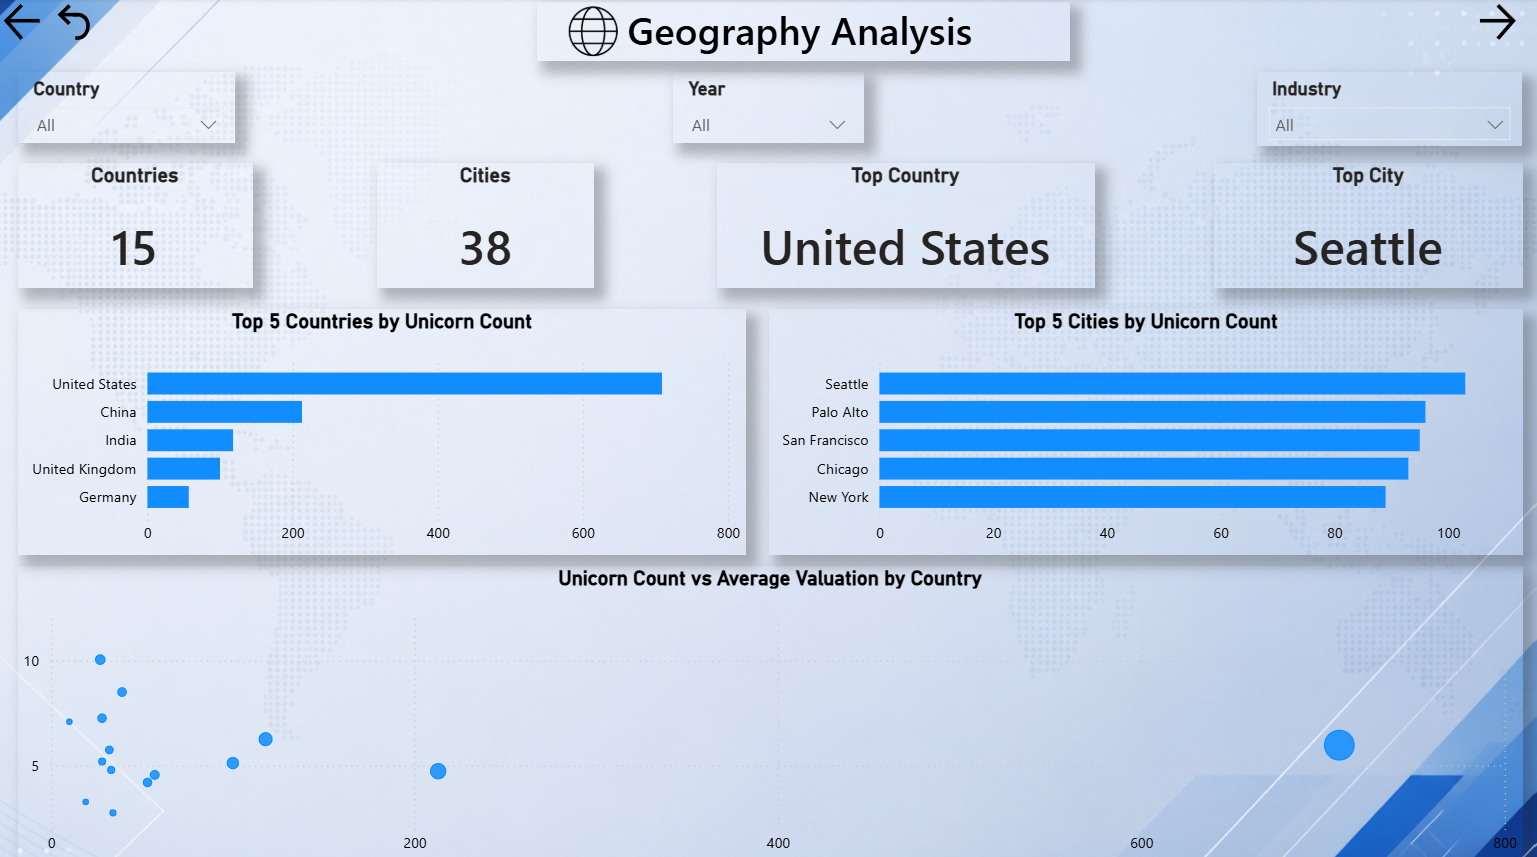

This screenshot's page, from the dashboard's own definition file:
{"tool":"powerbi","page":{"name":"Geography Analysis","canvas":[1280,720],"ordinal":1},"visuals":[{"type":"shape","box":[447.3,2.7,443.2,49.4],"z":0},{"type":"textbox","box":[517.3,0,362.3,54.9],"z":1000},{"type":"slicer","fields":{"Values":["unicorn_companies.Country"]},"box":[15.1,61.1,181.1,59],"z":2000},{"type":"slicer","fields":{"Values":["unicorn_companies.Industry"]},"box":[1045.6,61.1,220.9,61.7],"z":3000},{"type":"cardVisual","title":"Top City","fields":{"Data":["unicorn_companies.Top City"]},"box":[1010,137.6,256.6,104.3],"z":4000},{"type":"cardVisual","title":"Countries ","fields":{"Data":["unicorn_companies.Countries Covered"]},"box":[15.1,137.6,194.9,104.3],"z":5000},{"type":"cardVisual","title":"Cities ","fields":{"Data":["Count(unicorn_companies.City)"]},"box":[314.2,137.6,181.1,104.3],"z":6000},{"type":"cardVisual","title":"Top Country","fields":{"Data":["unicorn_companies.Top Country"]},"box":[596.9,137.6,314.2,104.3],"z":7000},{"type":"barChart","title":"Top 5 Countries by Unicorn Count","fields":{"Category":["unicorn_companies.Country"],"Y":["unicorn_companies.Total Unicorns"]},"box":[15.7,258.6,605.7,204.3],"z":8000},{"type":"barChart","title":"Top 5 Cities by Unicorn Count","fields":{"Y":["unicorn_companies.Total Unicorns"],"Category":["unicorn_companies.City"]},"box":[640,258.6,627.1,204.3],"z":9000},{"type":"scatterChart","title":"Unicorn Count vs Average Valuation by Country","fields":{"X":["unicorn_companies.Total Unicorns"],"Y":["unicorn_companies.Average Valuation"],"Size":["unicorn_companies.Total Funding Raised"],"Category":["unicorn_companies.Country"]},"box":[15.7,471.4,1251.4,248.6],"z":10000},{"type":"actionButton","box":[0,0,54.9,39.8],"z":11000},{"type":"slicer","fields":{"Values":["unicorn_companies.Date Joined.Variation.Date Hierarchy.Year"]},"box":[559.9,61.7,159.2,59],"z":12000},{"type":"image","box":[450.1,0,87.8,54.9],"z":13000},{"type":"actionButton","box":[42.5,0,52.1,39.8],"z":14000},{"type":"actionButton","box":[1225.4,0,54.9,39.8],"z":15000}]}

Visuals, with their boxes in screenshot pixels (x1, y1, x2, y2), scaled from the page's 1280x720 canvas onto the 1537x857 screenshot:
shape: (537,3,1069,62)
textbox: (621,0,1056,65)
slicer - unicorn_companies.Country: (18,73,236,143)
slicer - unicorn_companies.Industry: (1256,73,1521,146)
"Top City" cardVisual: (1213,164,1521,288)
"Countries " cardVisual: (18,164,252,288)
"Cities " cardVisual: (377,164,595,288)
"Top Country" cardVisual: (717,164,1094,288)
"Top 5 Countries by Unicorn Count" barChart: (19,308,746,551)
"Top 5 Cities by Unicorn Count" barChart: (768,308,1522,551)
"Unicorn Count vs Average Valuation by Country" scatterChart: (19,561,1522,856)
actionButton: (0,0,66,47)
slicer - unicorn_companies.Date Joined.Variation.Date Hierarchy.Year: (672,73,863,144)
image: (540,0,646,65)
actionButton: (51,0,114,47)
actionButton: (1471,0,1536,47)
